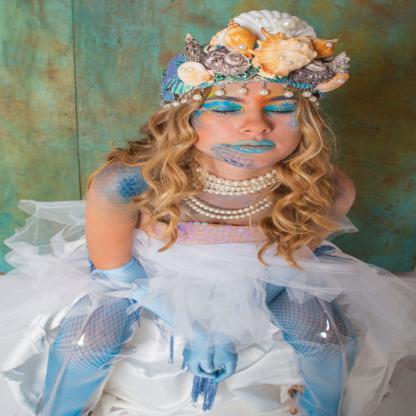Eye: (202, 101, 244, 116), (264, 104, 301, 117)
Mouth: (230, 137, 281, 155)
Nose: (240, 112, 275, 136)
